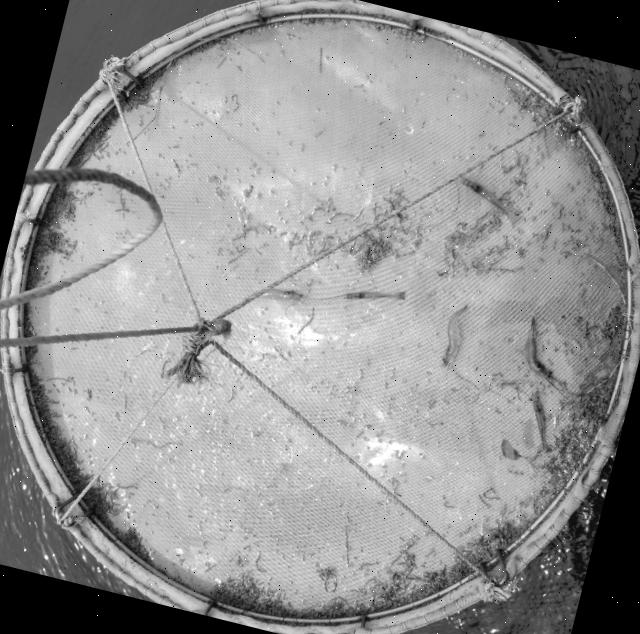shrimp: (461, 178, 517, 221), (443, 305, 466, 366), (530, 391, 552, 452), (524, 318, 541, 373), (262, 288, 306, 303), (341, 291, 405, 300)
